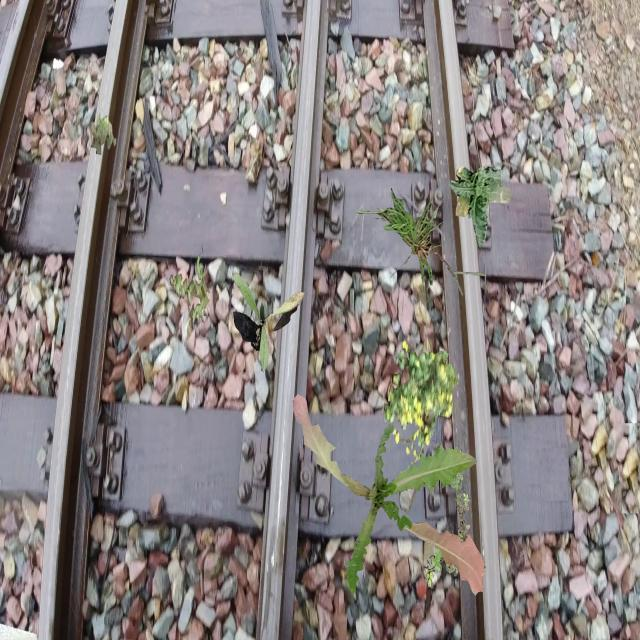Plant: (293, 394, 486, 596), (343, 187, 486, 306), (384, 340, 459, 480), (233, 273, 304, 372), (424, 449, 472, 587), (449, 166, 512, 249), (169, 253, 210, 324), (91, 113, 117, 156)
